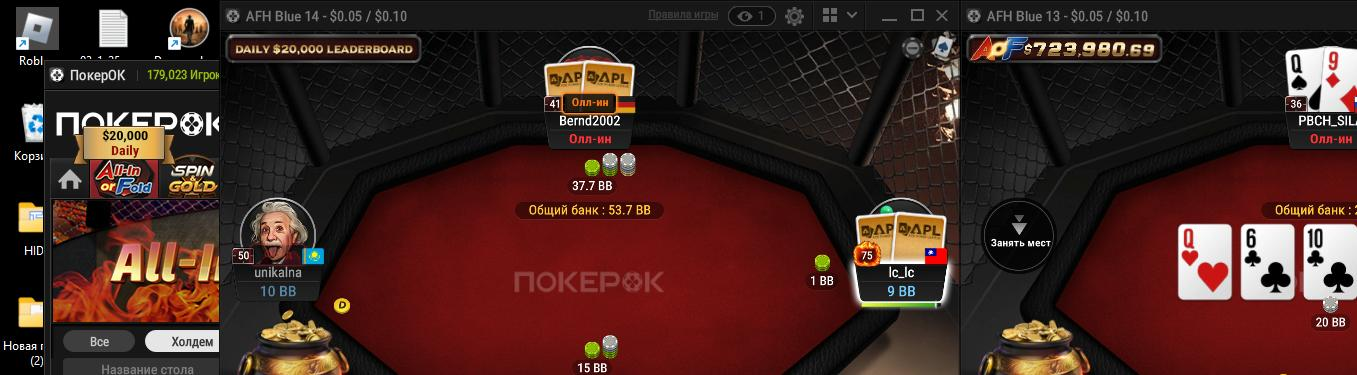10c: (1304, 223, 1356, 300)
6c: (1241, 225, 1296, 299)
9d: (1323, 46, 1356, 113)
Qh: (1180, 224, 1232, 300)
Qs: (1284, 48, 1322, 111)
